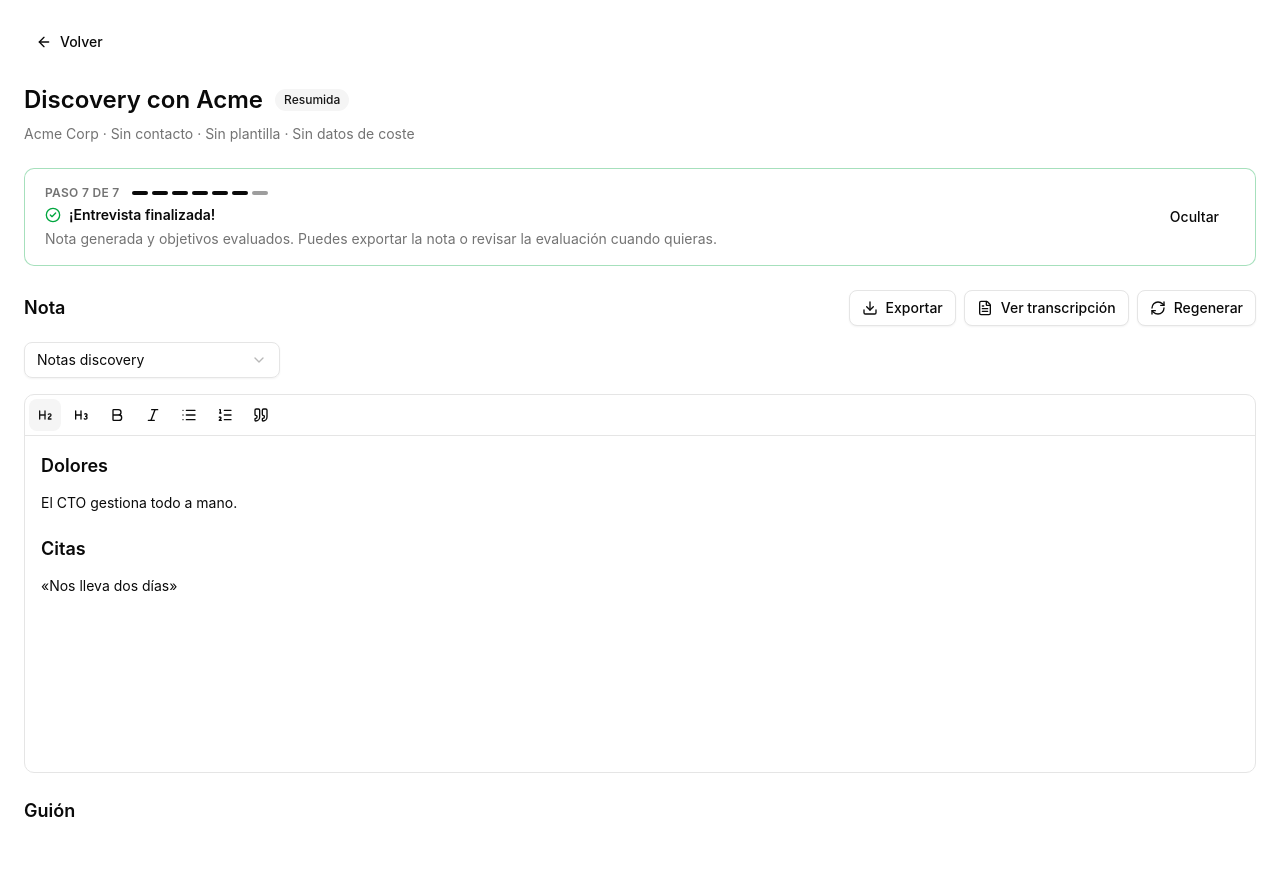
Test: NoteSection › header actions (SPEC-029) › keeps Exportar, Ver transcripción and the unified outline "Regenerar" visible while there are unsaved changes
Expected: the button "Exportar" is shown, [849, 290, 956, 326]
Expected: the button "Ver transcripción" is shown, [964, 290, 1129, 326]
# …y también con cambios sin guardar
Click the button named "Encabezado 3". click: coordinates (81, 415)
box: [65, 399, 97, 431]
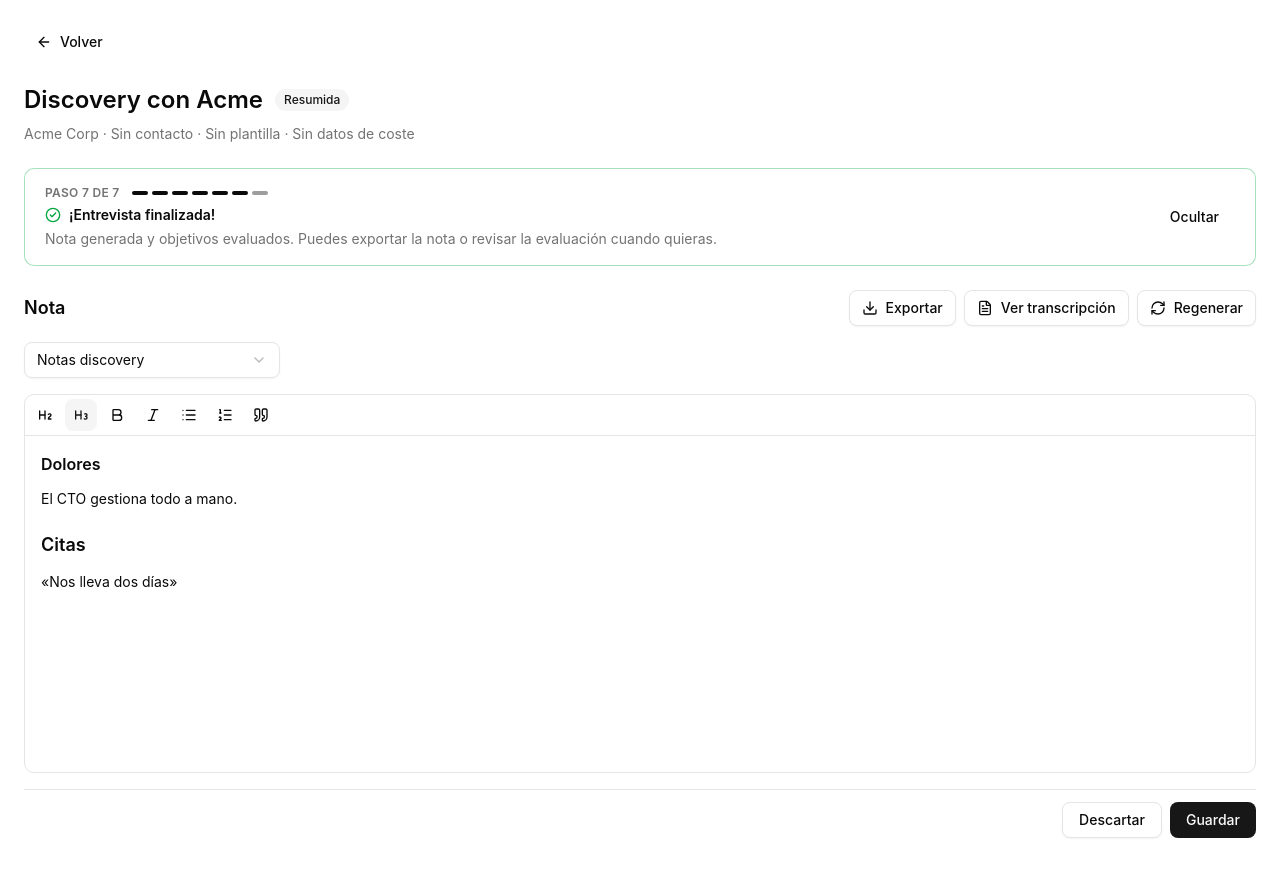
Expected: the button "Exportar" is shown, [849, 290, 956, 326]
Now the element with test id "note-editor-actions" is shown, box [24, 789, 1256, 850]
